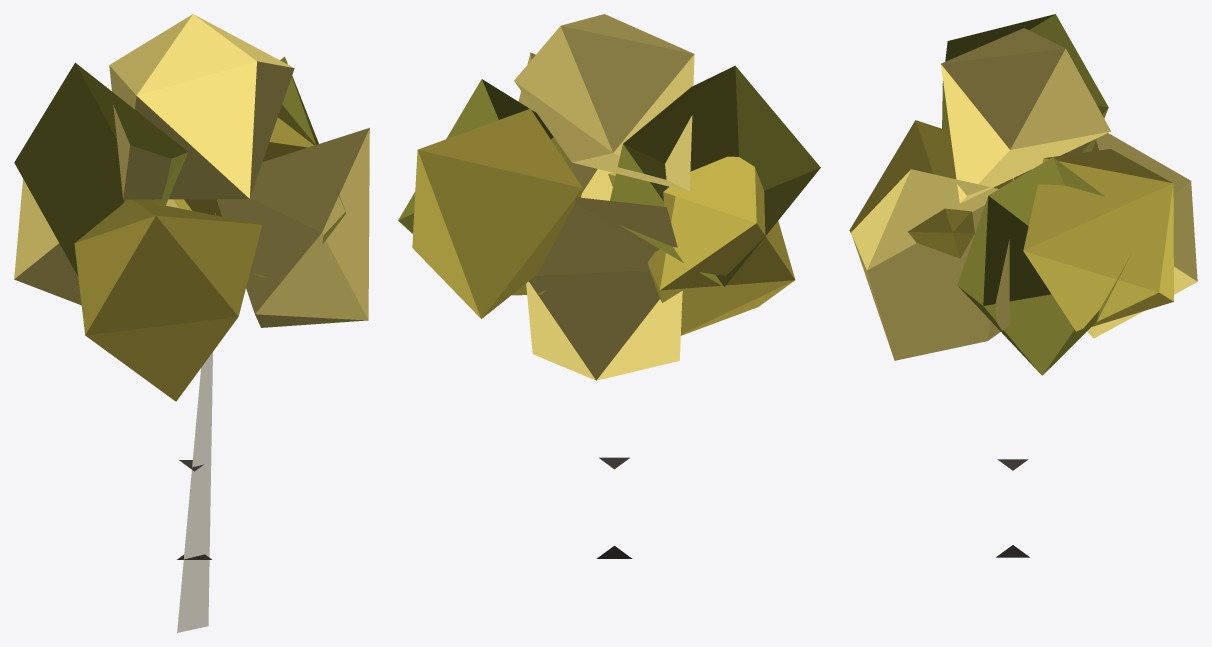
Rendered from tree_birch_4_lod2.glb.
The picture shows the model from 3 angles, left to right: view 1: azimuth 30°, elevation 25°; view 2: azimuth 150°, elevation 25°; view 3: azimuth 270°, elevation 25°; orthographic projection. The views are drawn at different scales.
Parts seen in each view (by area): view 1: tree_birch_4_lod2; view 2: tree_birch_4_lod2; view 3: tree_birch_4_lod2.
Part boxes in pixels (bbox=[...]): tree_birch_4_lod2: bbox=[14, 14, 369, 632]; tree_birch_4_lod2: bbox=[398, 14, 820, 558]; tree_birch_4_lod2: bbox=[849, 14, 1197, 557].
Bounding box in the file's own units: 4.57 × 7.86 × 4.13.
